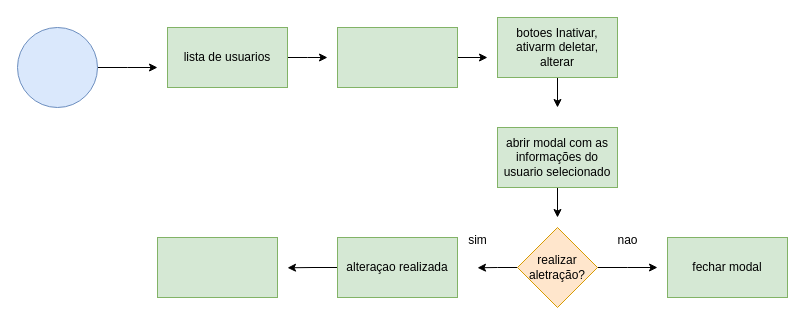
This 805x325 diagram has some shape labels left out. The shapes that lost their labels are listed below. From the top down, each one's centre as x and y in pixels, then its label:
At (57,67): "inicio".
At (397,57): "nome, usuario e turma".
At (217,267): "alerta de alteração concluída fechar o modal".
